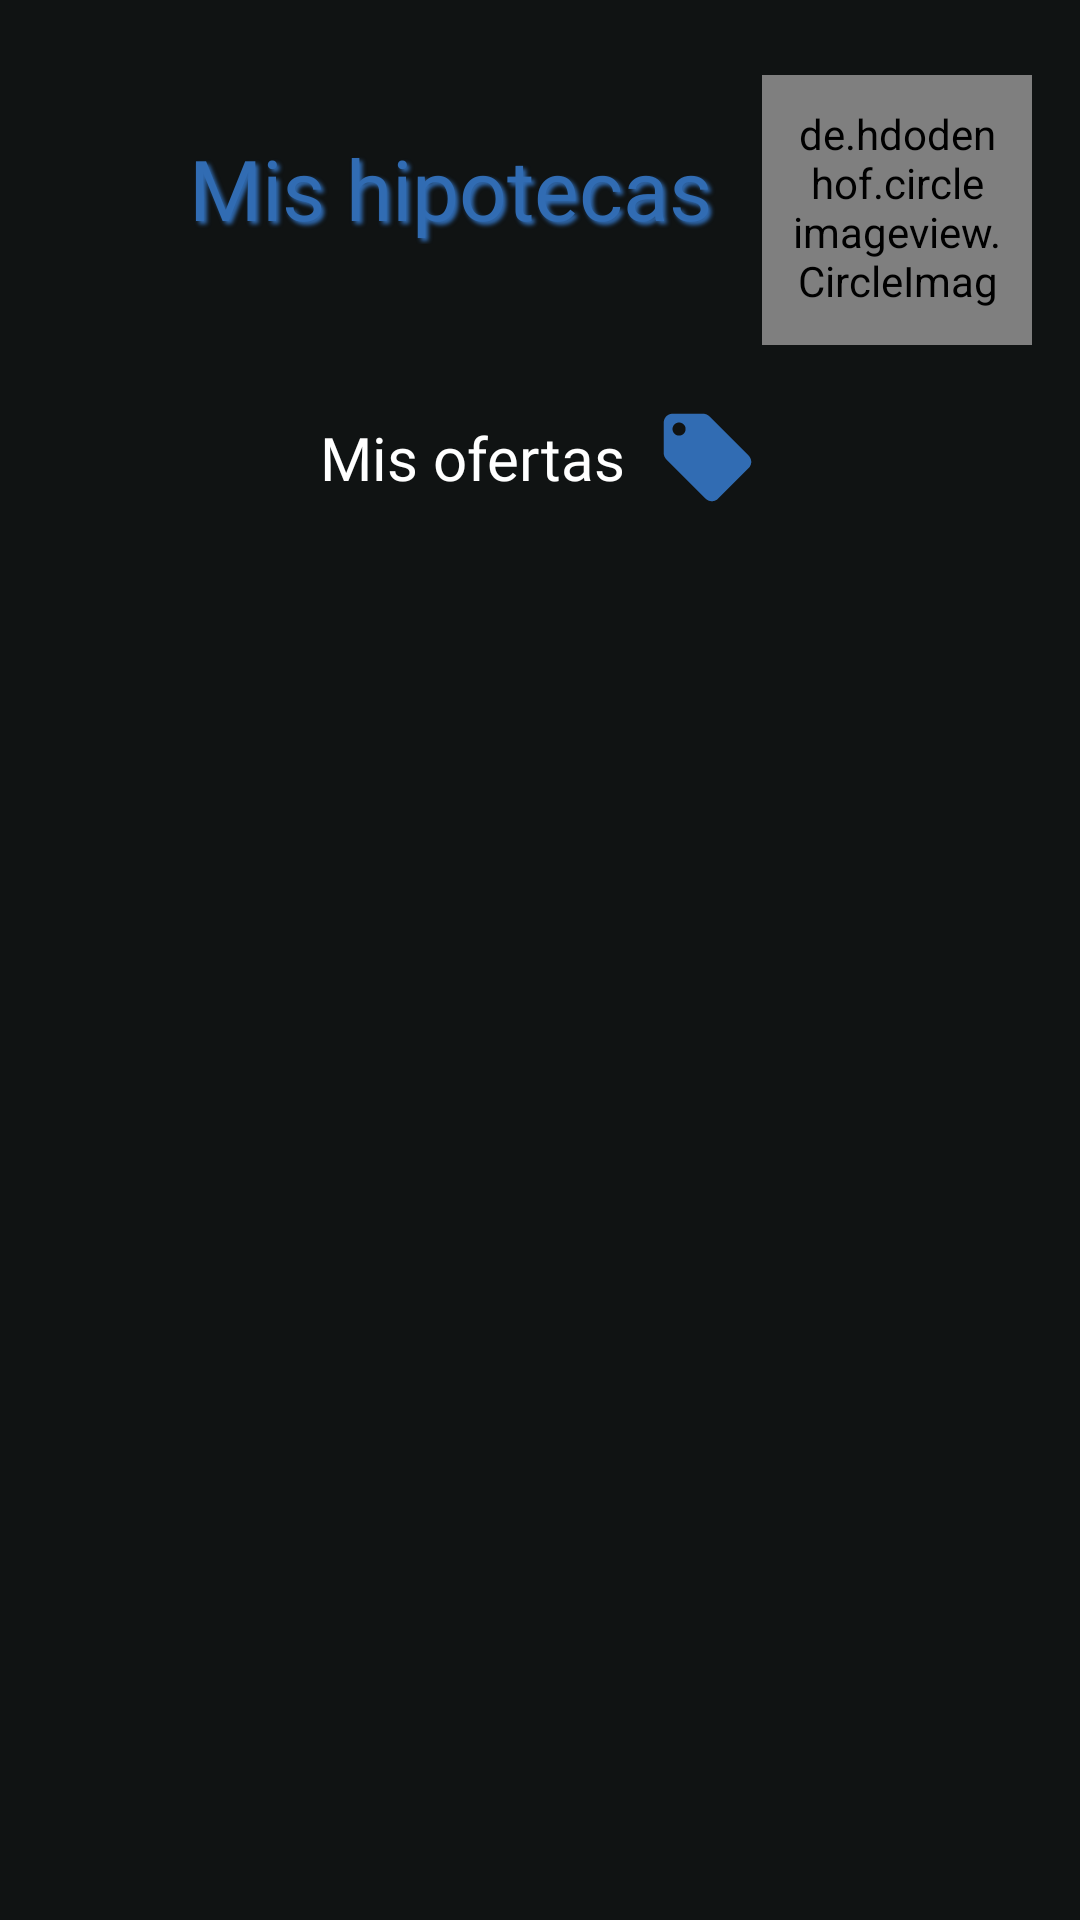

Screen size 1080*1920. Icon name, then its center in pixels as [x,y]:
offerts: [707,457]
